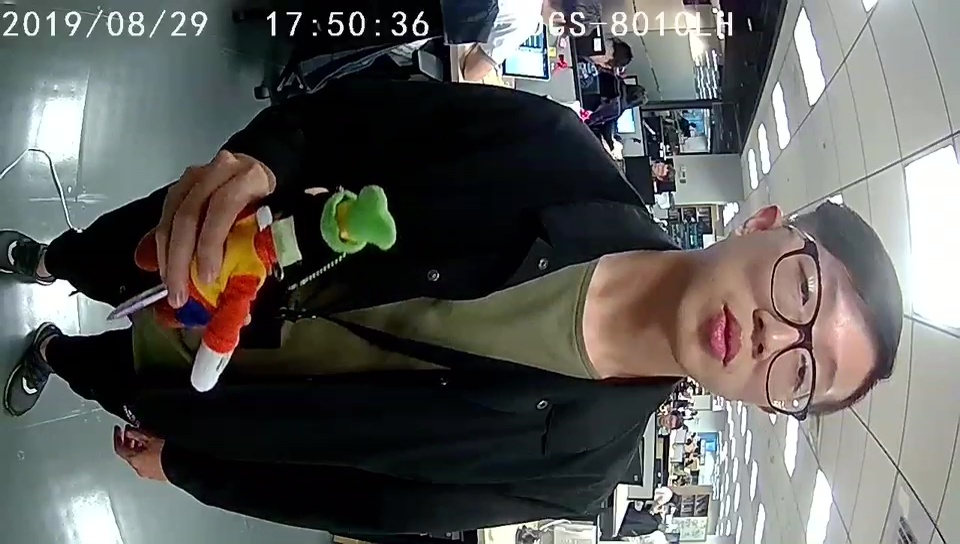goofy: (136, 184, 394, 394)
